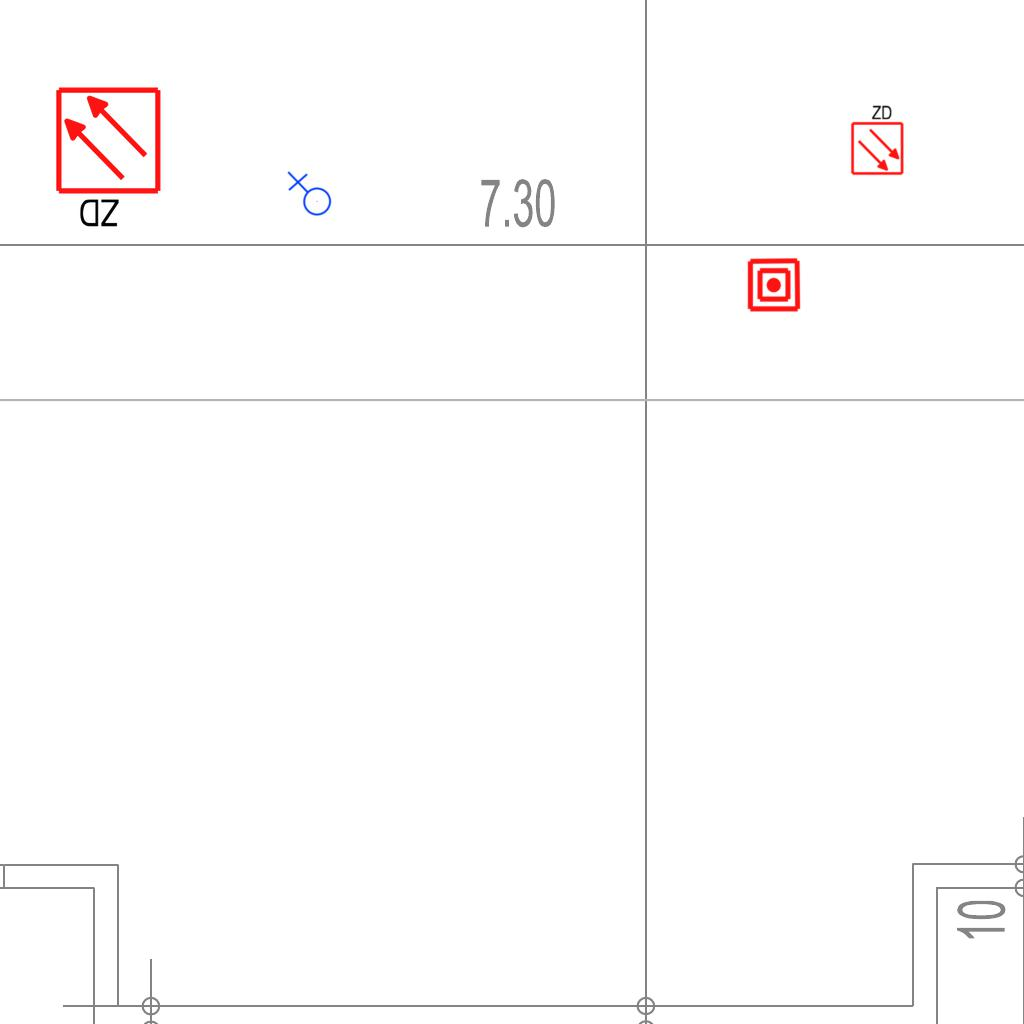Elektroanschluss_allgemein_230V_Geraeteanschlussdose_230V: (285, 171, 332, 220)
NAM-Nichtautomatischer_Melder: (746, 257, 802, 313)
ZD_Melder_in_Zwischendecke_mit_Revisionsoeffnung_mind_40_x_40_cm: (53, 85, 167, 234), (848, 102, 905, 176)
